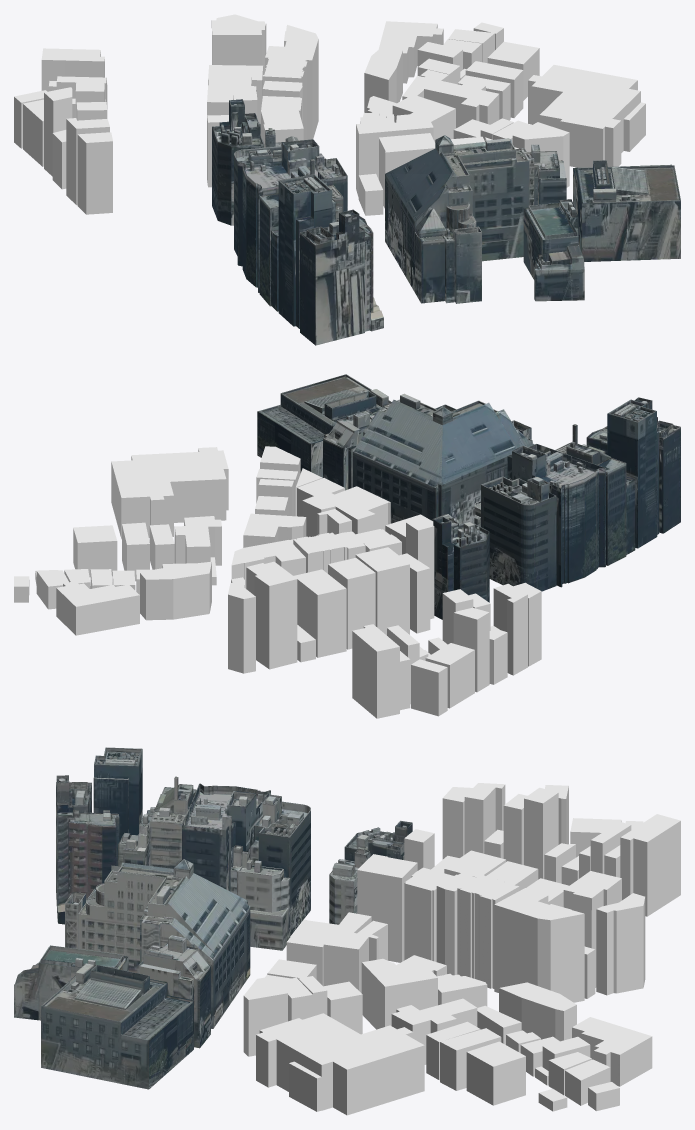
Rendered from data461.glb.
3 renders of one model, top to bottom at view 1: azimuth 30°, elevation 25°; view 2: azimuth 150°, elevation 25°; view 3: azimuth 270°, elevation 25°, orthographic. The views are drawn at different scales.
Size of the model in its own units: 180 by 46.34 by 196.
2 materials, 1 textured.
